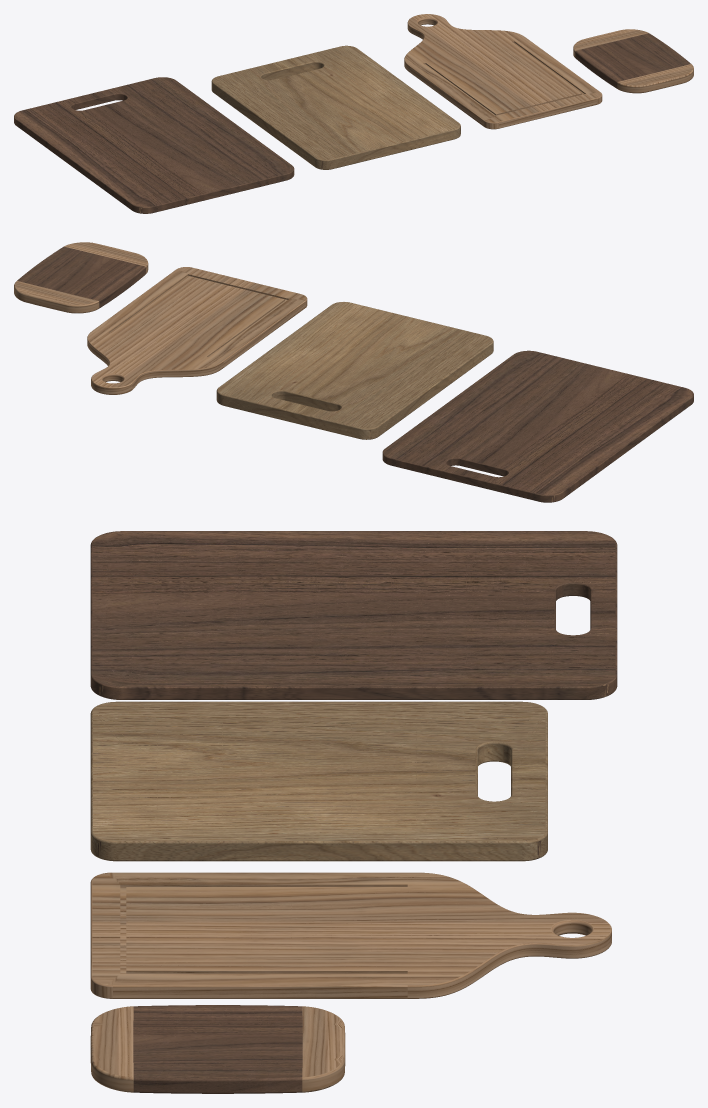
File: cutting-boards.glb
The picture shows the model from 3 angles, top to bottom: view 1: azimuth 30°, elevation 25°; view 2: azimuth 150°, elevation 25°; view 3: azimuth 270°, elevation 25°; orthographic projection. The views are drawn at different scales.
Visible parts, largest first — view 1: object_1, object_6, object_5, object_4, object_2, object_3; view 2: object_1, object_6, object_5, object_4, object_3, object_2; view 3: object_1, object_6, object_5, object_4, object_3, object_2.
Boxes of the visible parts, x1=… form: object_1: x1=14, y1=77, x2=294, y2=213; object_6: x1=211, y1=45, x2=460, y2=169; object_5: x1=404, y1=14, x2=602, y2=129; object_4: x1=575, y1=33, x2=690, y2=88; object_2: x1=617, y1=64, x2=693, y2=93; object_3: x1=573, y1=29, x2=648, y2=57; object_1: x1=382, y1=350, x2=693, y2=502; object_6: x1=216, y1=302, x2=493, y2=439; object_5: x1=87, y1=267, x2=307, y2=394; object_4: x1=17, y1=246, x2=145, y2=308; object_3: x1=14, y1=281, x2=99, y2=313; object_2: x1=64, y1=242, x2=148, y2=273; object_1: x1=90, y1=531, x2=617, y2=699; object_6: x1=90, y1=701, x2=547, y2=861; object_5: x1=90, y1=872, x2=611, y2=998; object_4: x1=133, y1=1005, x2=302, y2=1093; object_3: x1=302, y1=1006, x2=345, y2=1092; object_2: x1=90, y1=1006, x2=133, y2=1092.
Bounding box in the file's own units: 0.8805 × 0.015 × 0.3558.
Materials: 1 (1 with a texture image).
